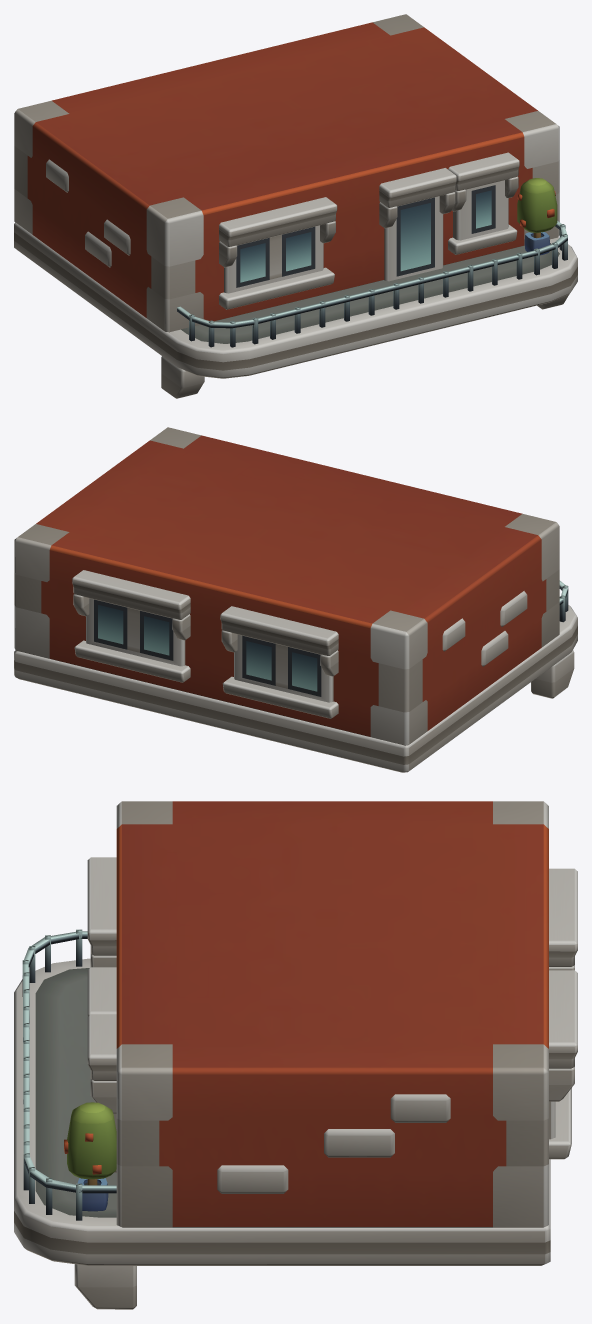
Rendered from appartment_type1_x6_balcony_red.fbx.
3 renders of one model, top to bottom at view 1: azimuth 30°, elevation 25°; view 2: azimuth 150°, elevation 25°; view 3: azimuth 270°, elevation 25°, orthographic. The views are drawn at different scales.
Visible parts, largest first — view 1: appartment_type1_x6_balcony_red; view 2: appartment_type1_x6_balcony_red; view 3: appartment_type1_x6_balcony_red.
Part boxes in pixels (bbox=[...]): appartment_type1_x6_balcony_red: bbox=[14, 14, 577, 398]; appartment_type1_x6_balcony_red: bbox=[14, 427, 577, 772]; appartment_type1_x6_balcony_red: bbox=[14, 801, 577, 1309].
Bounding box in the file's own units: 1219 × 505 × 1056.
